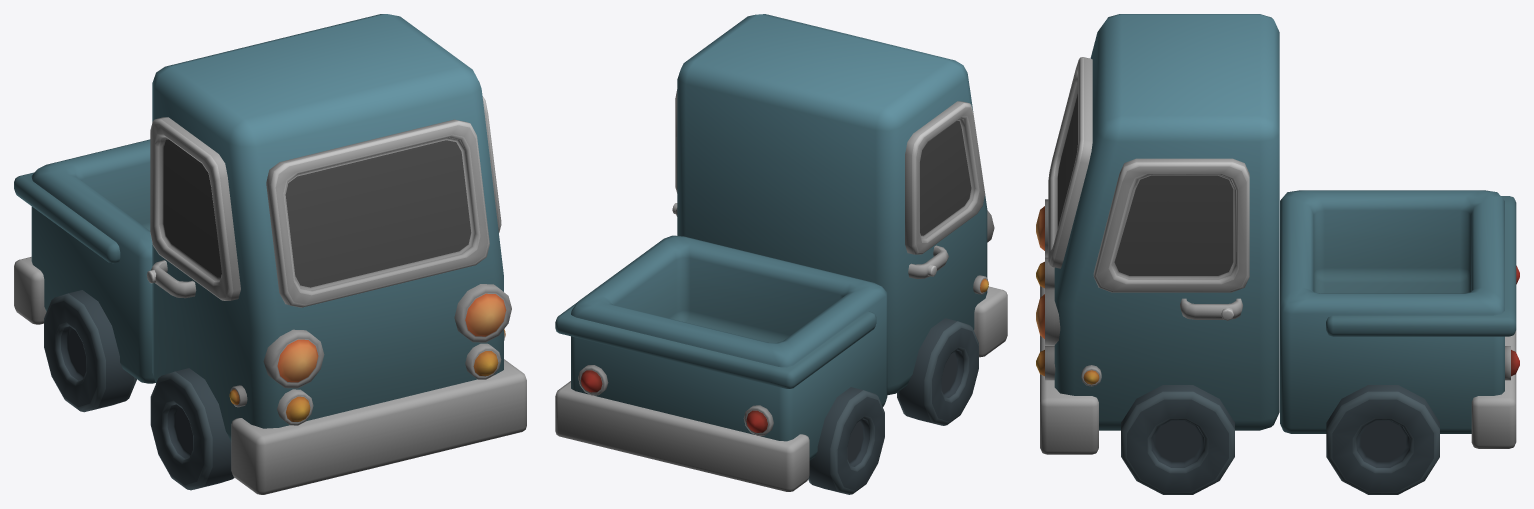
The model's file is mct_car_01.fbx.
3 renders of one model, left to right at view 1: azimuth 30°, elevation 25°; view 2: azimuth 150°, elevation 25°; view 3: azimuth 270°, elevation 25°, orthographic. The views are drawn at different scales.
Parts seen in each view (by area): view 1: mct_car_01, mct_car_01_w; view 2: mct_car_01, mct_car_01_w; view 3: mct_car_01, mct_car_01_w.
Part boxes in pixels (<box>): mct_car_01: <box>14,14,526,494</box>; mct_car_01_w: <box>44,290,234,490</box>; mct_car_01: <box>555,14,1007,491</box>; mct_car_01_w: <box>808,318,978,494</box>; mct_car_01: <box>1036,14,1519,454</box>; mct_car_01_w: <box>1121,385,1439,494</box>.
Size of the model in its own units: 130 by 159 by 192.
